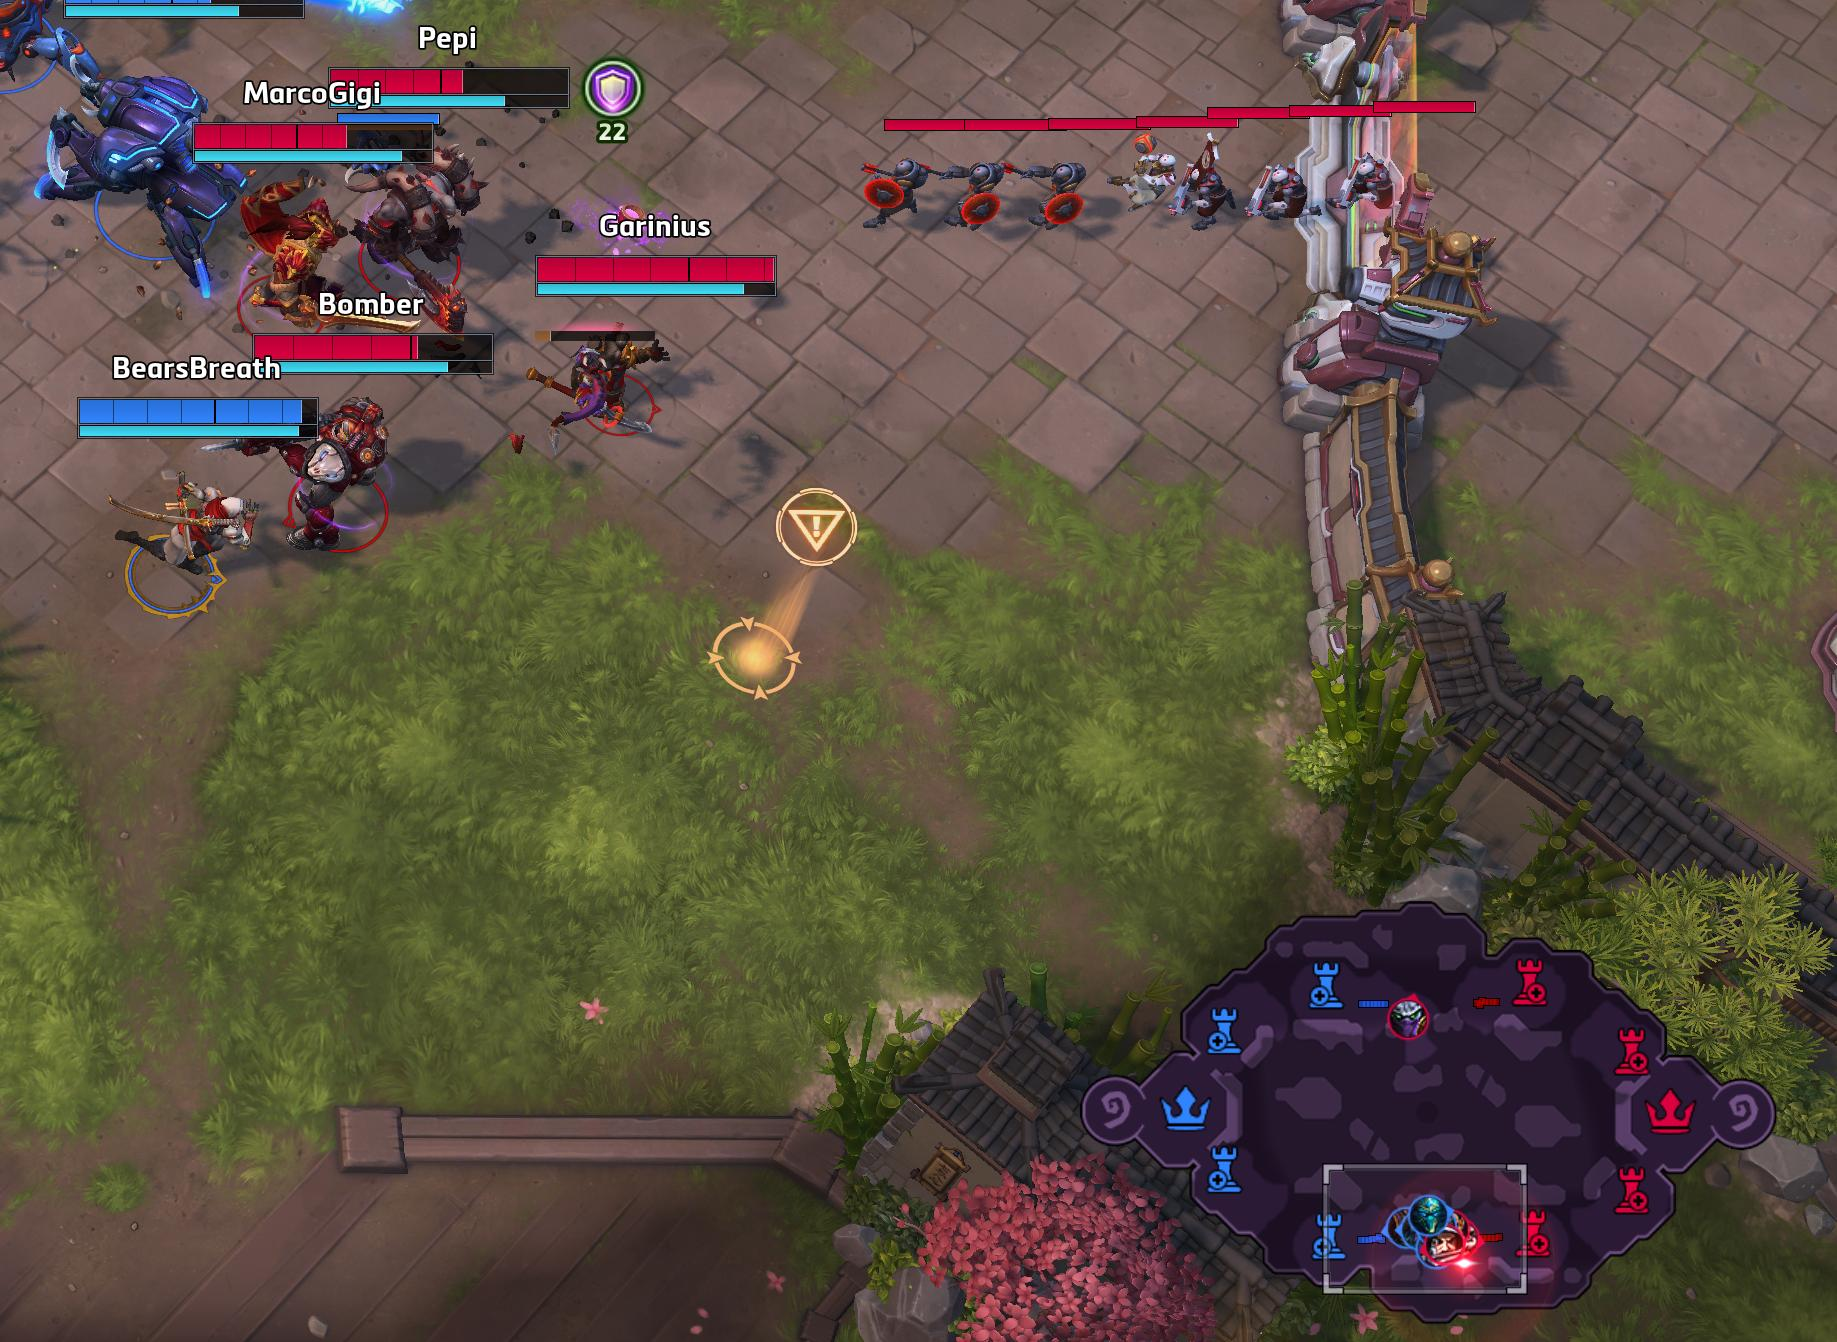blue player: (1409, 1195, 1445, 1236), (1428, 1231, 1460, 1257)
red player: (1415, 1210, 1482, 1270), (1386, 994, 1430, 1040)
